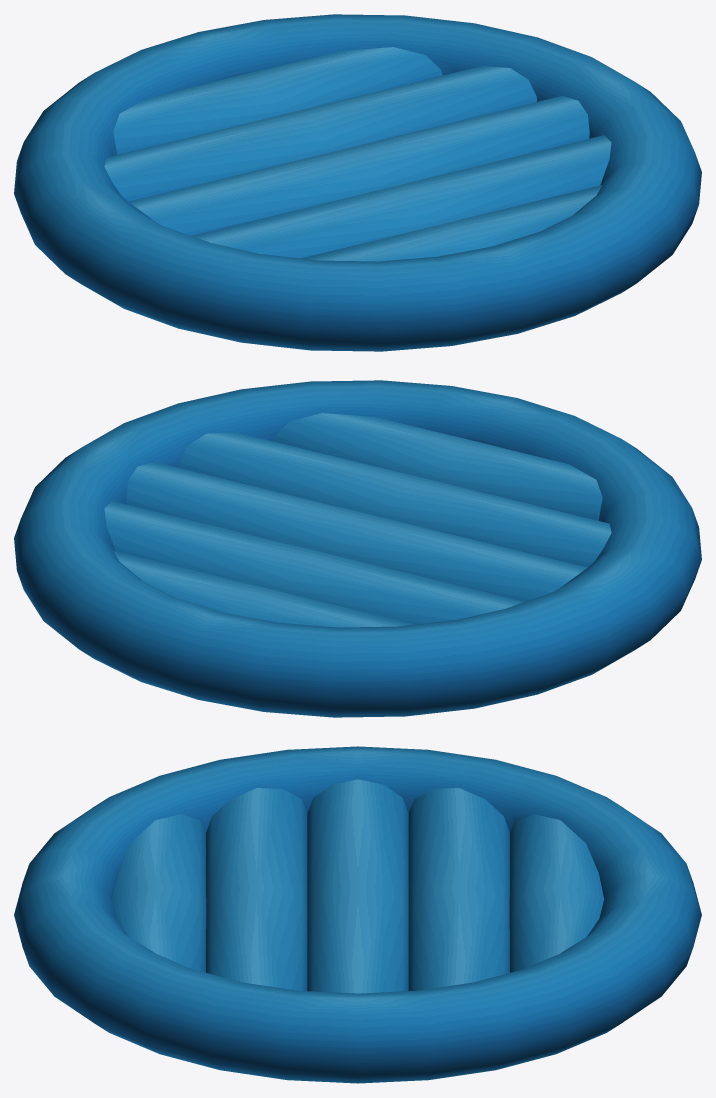
Rendered from tube_round_sky.fbx.
The picture shows the model from 3 angles, top to bottom: view 1: azimuth 30°, elevation 25°; view 2: azimuth 150°, elevation 25°; view 3: azimuth 270°, elevation 25°; orthographic projection.
Parts seen in each view (by area): view 1: tube_round_sky; view 2: tube_round_sky; view 3: tube_round_sky.
Boxes of the visible parts, x1,y1,x2,y2 form: tube_round_sky: (14,14,701,351); tube_round_sky: (14,380,701,717); tube_round_sky: (14,746,701,1083).
Size of the model in its own units: 80 by 10.09 by 80.
